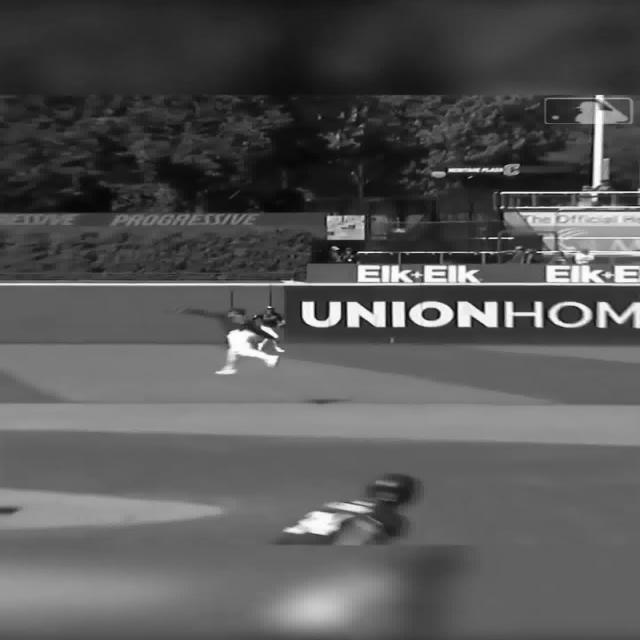baseball_glove: (165, 308, 183, 311)
shoe: (263, 354, 279, 368), (215, 368, 237, 375), (273, 346, 285, 352)
